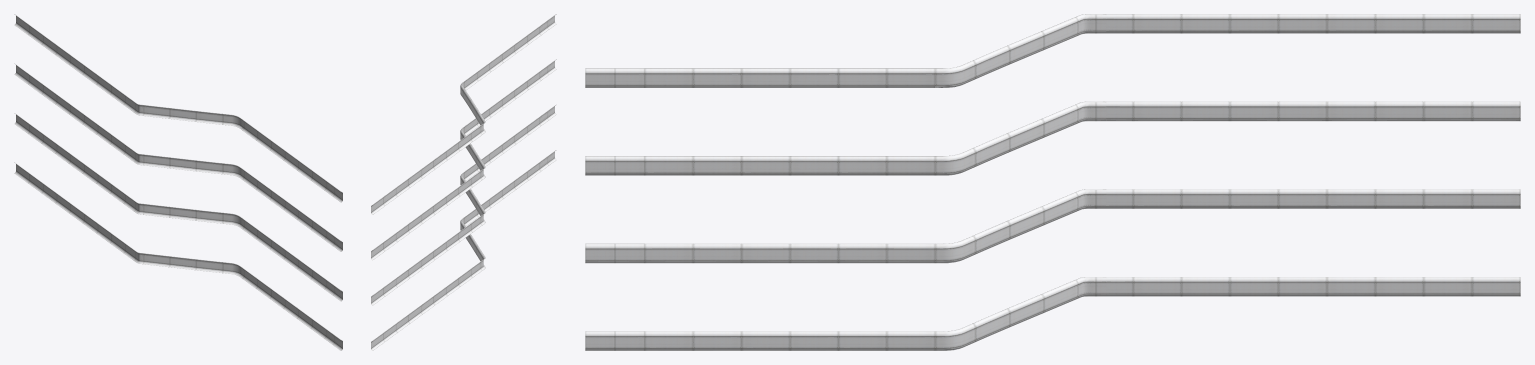
The model's file is RearFAC_Sup07.FBX.
3 views of the same model, side by side, from view 1: azimuth 30°, elevation 25°; view 2: azimuth 150°, elevation 25°; view 3: azimuth 270°, elevation 25° (orthographic). The views are drawn at different scales.
Parts seen in each view (by area): view 1: RearFAC_Sup07; view 2: RearFAC_Sup07; view 3: RearFAC_Sup07.
Part boxes in pixels (x1,y1,x2,y2): RearFAC_Sup07: (14,14,342,350); RearFAC_Sup07: (371,14,556,350); RearFAC_Sup07: (585,14,1520,350).
Bounding box in the file's own units: 8.24 × 19.3 × 58.04.
